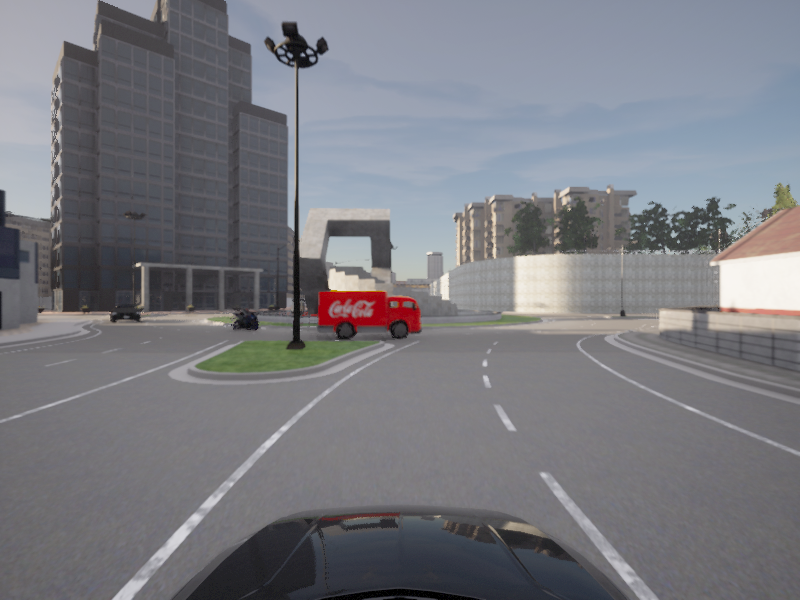vehicle: (316, 290, 422, 341), (227, 307, 263, 332), (110, 303, 142, 324)
